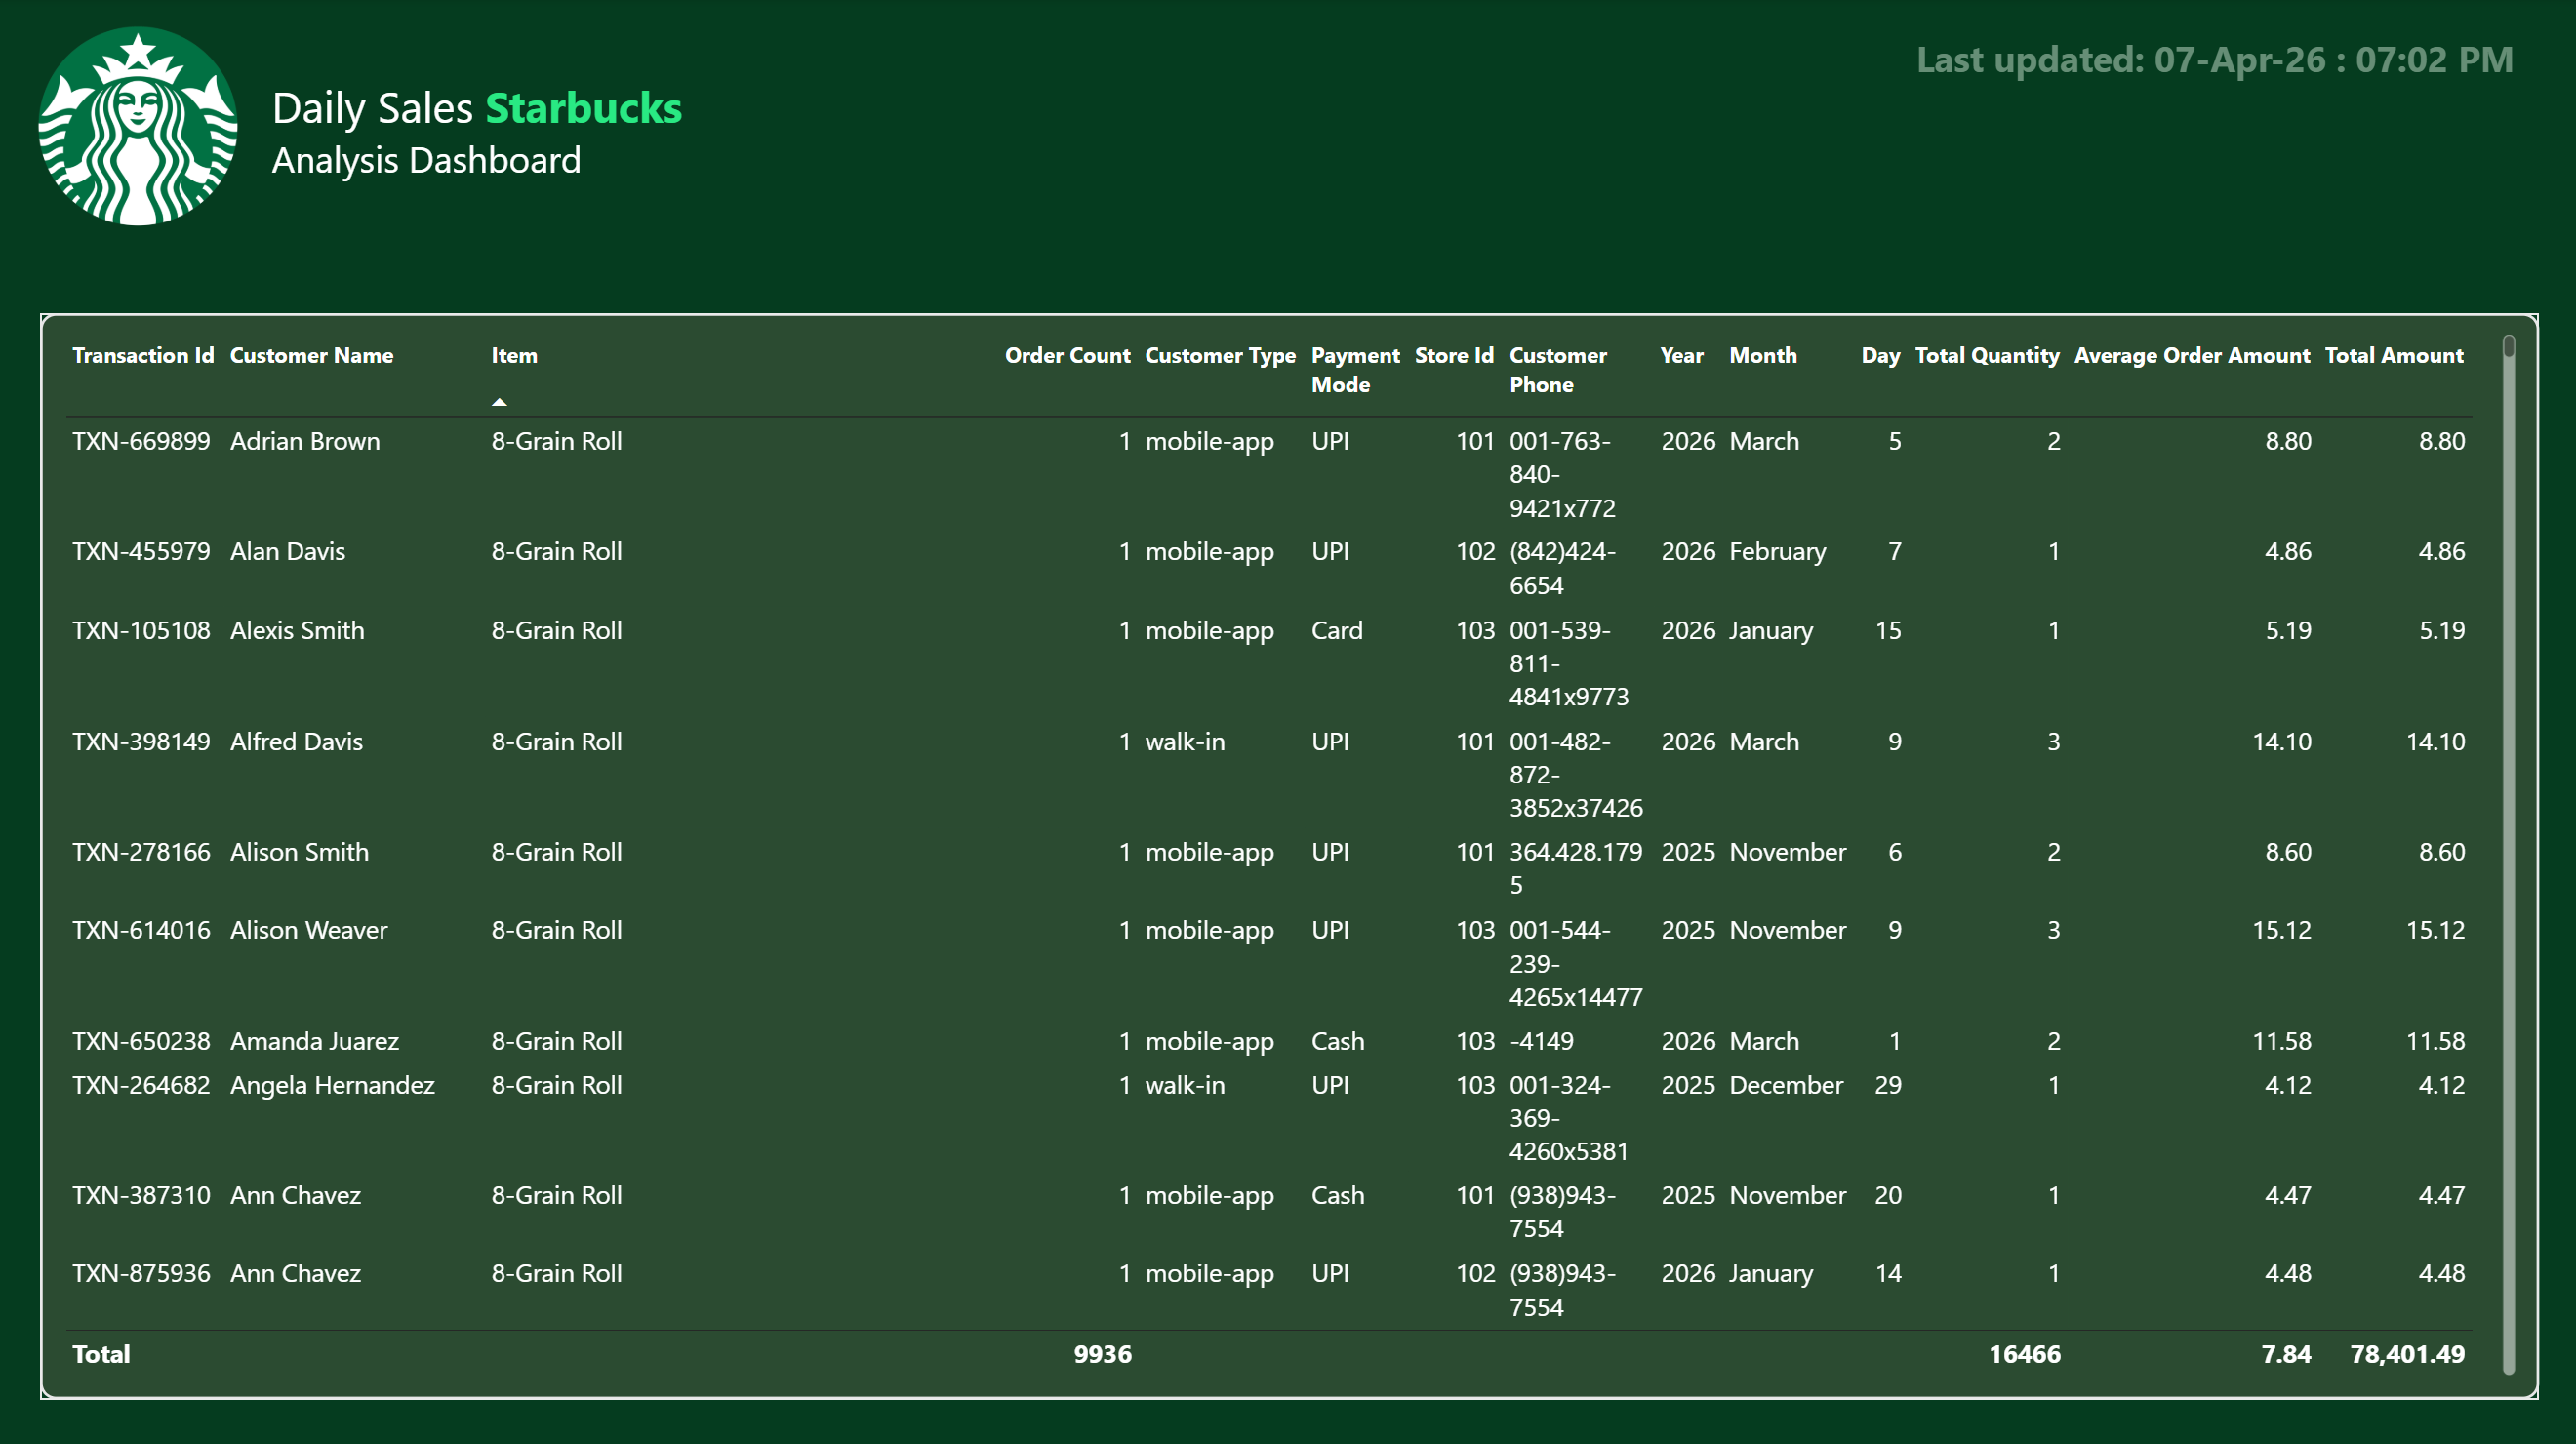

What the dashboard file says about the page in this screenshot:
{"tool":"powerbi","page":{"name":"Details","canvas":[1920,1080],"ordinal":2},"visuals":[{"type":"image","box":[18,14,174,164],"z":0},{"type":"textbox","box":[204,60,470,104],"z":1000},{"type":"card","fields":{"Values":["_Measures.formatmaxdate"]},"box":[1406,0,482,96],"z":2000},{"type":"tableEx","fields":{"Values":["sales.transaction_id","customers.customer_name","items.item","_Measures.order_count","sales.customer_type","sales.payment_mode","sales.store_id","customers.customer_phone","calendar.datetime.Variation.Date Hierarchy.Year","calendar.datetime.Variation.Date Hierarchy.Month","calendar.datetime.Variation.Date Hierarchy.Day","_Measures.total_quantity"]},"box":[18,236,1888,792],"z":3000}]}

Visuals, with their boxes in screenshot pixels (x1, y1, x2, y2), scaled from the page's 1920x1080 canvas onto the 2576x1444 screenshot:
image: select_region(24, 19, 258, 238)
textbox: select_region(273, 80, 905, 220)
card - _Measures.formatmaxdate: select_region(1886, 0, 2533, 129)
tableEx - sales.transaction_id x customers.customer_name: select_region(24, 315, 2557, 1375)
